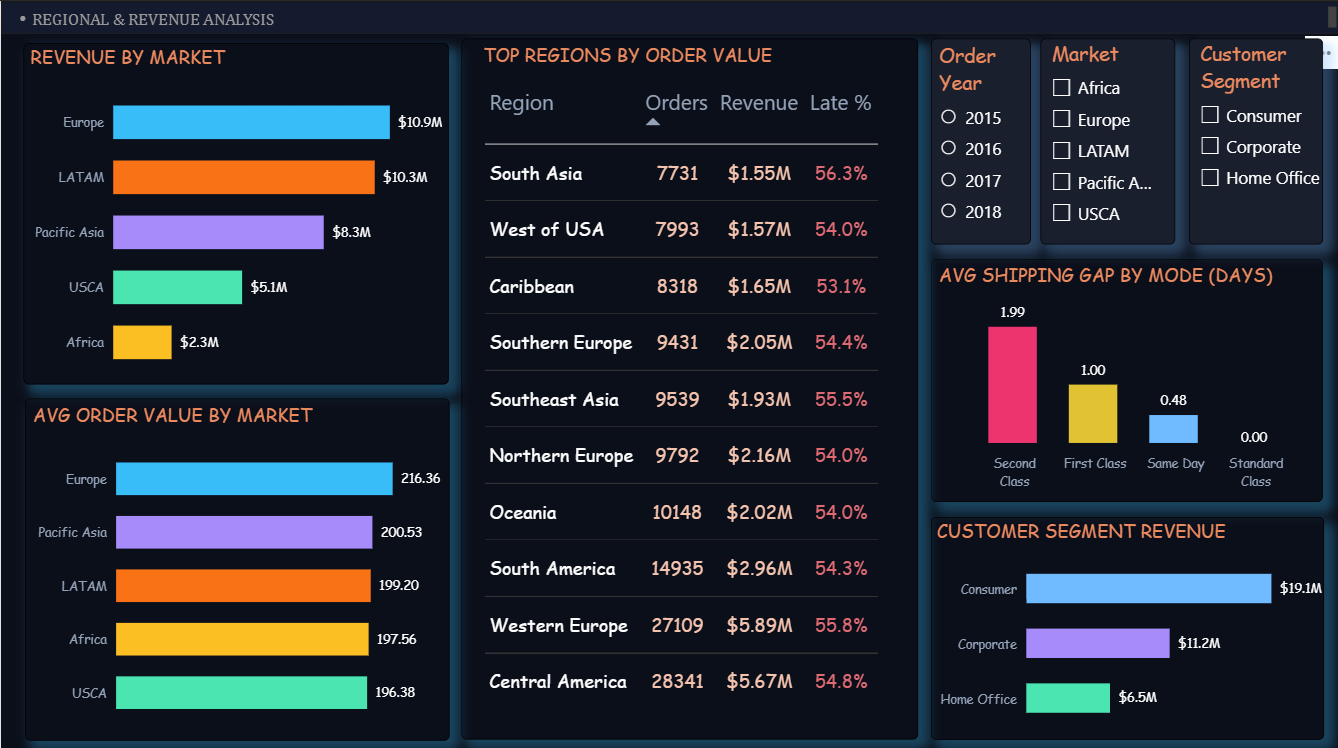

The page's visual inventory and layout, read from the dashboard file:
{"tool":"powerbi","page":{"name":"Page 2","canvas":[1280,720],"ordinal":1},"visuals":[{"type":"clusteredBarChart","title":"REVENUE BY MARKET","fields":{"Y":["KPI Measures.Total Revenue"],"Category":["DataCo.Market"]},"box":[22,40,406,326],"z":0},{"type":"clusteredColumnChart","title":"AVG SHIPPING GAP BY MODE (DAYS)","fields":{"Category":["DataCo.Shipping Mode"],"Y":["KPI Measures.Avg Shipping Gap"]},"box":[888,246,374,232],"z":1000},{"type":"clusteredBarChart","title":"AVG ORDER VALUE BY MARKET","fields":{"Y":["KPI Measures.Avg Order Value"],"Category":["DataCo.Market"]},"box":[22.8,379,405,326.9],"z":2000},{"type":"tableEx","title":"TOP REGIONS BY ORDER VALUE","fields":{"Values":["DataCo.Order Region","KPI Measures.Total Orders Check","KPI Measures.Total Revenue","KPI Measures.Late Delivery Rate %"]},"box":[439.3,35.7,435.7,669.6],"z":3000},{"type":"barChart","title":"CUSTOMER SEGMENT REVENUE","fields":{"Category":["DataCo.Customer Segment"],"Y":["KPI Measures.Total Revenue"]},"box":[887.5,492.9,375,212.5],"z":4000},{"type":"textbox","box":[0,0,1280.1,30.9],"z":5000},{"type":"listSlicer","fields":{"Values":["DataCo.Order Year"]},"box":[887.5,35.7,95,196.4],"z":6000},{"type":"listSlicer","fields":{"Values":["DataCo.Market"]},"box":[992.9,35.7,128.6,196.4],"z":7000},{"type":"listSlicer","fields":{"Values":["DataCo.Customer Segment"]},"box":[1134.4,35.6,127.8,196.7],"z":8000}]}

Visuals, with their boxes in screenshot pixels (x1, y1, x2, y2), scaled from the page's 1280x720 canvas onto the 1338x748 screenshot:
"REVENUE BY MARKET" clusteredBarChart: [left=23, top=42, right=447, bottom=380]
"AVG SHIPPING GAP BY MODE (DAYS)" clusteredColumnChart: [left=928, top=256, right=1319, bottom=497]
"AVG ORDER VALUE BY MARKET" clusteredBarChart: [left=24, top=394, right=447, bottom=733]
"TOP REGIONS BY ORDER VALUE" tableEx: [left=459, top=37, right=915, bottom=733]
"CUSTOMER SEGMENT REVENUE" barChart: [left=928, top=512, right=1320, bottom=733]
textbox: [left=0, top=0, right=1337, bottom=32]
listSlicer - DataCo.Order Year: [left=928, top=37, right=1027, bottom=241]
listSlicer - DataCo.Market: [left=1038, top=37, right=1172, bottom=241]
listSlicer - DataCo.Customer Segment: [left=1186, top=37, right=1319, bottom=241]
